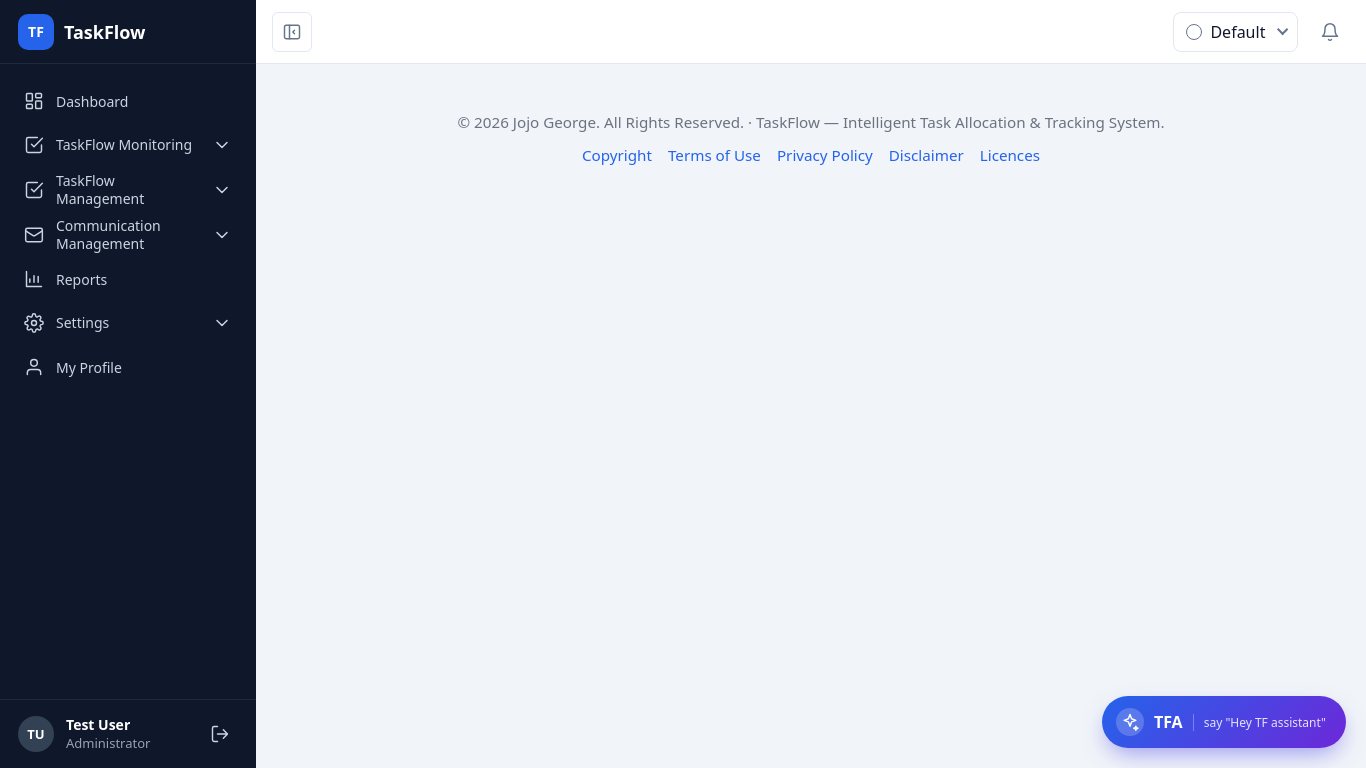
ShellComponent › collapses and expands a parent module group
Click the button with class "nav__parent" showing "Settings" at (128, 323), box [12, 302, 244, 344]
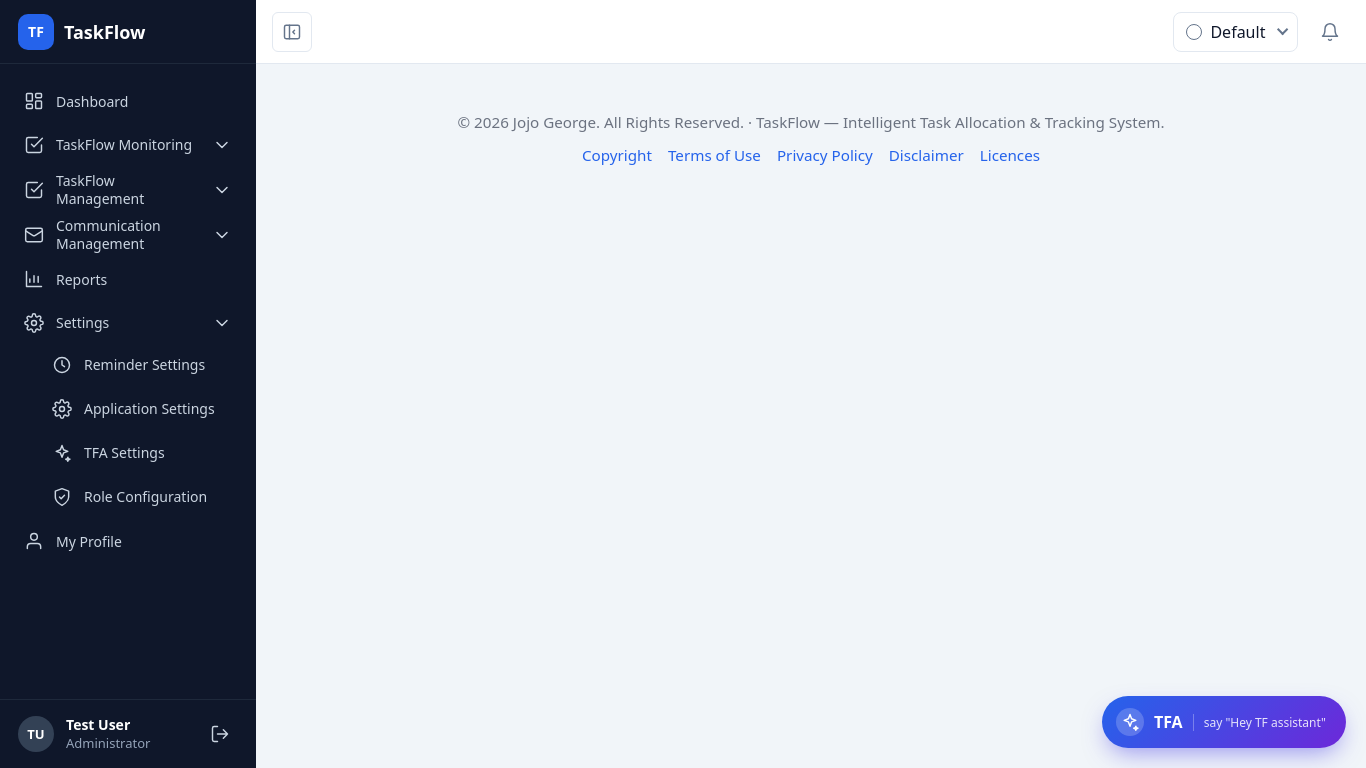
Now the element with id "nav-group-settings" is shown, box [84, 355, 215, 506]
Click the button with class "nav__parent" showing "Settings" at (128, 323), box [12, 302, 244, 344]
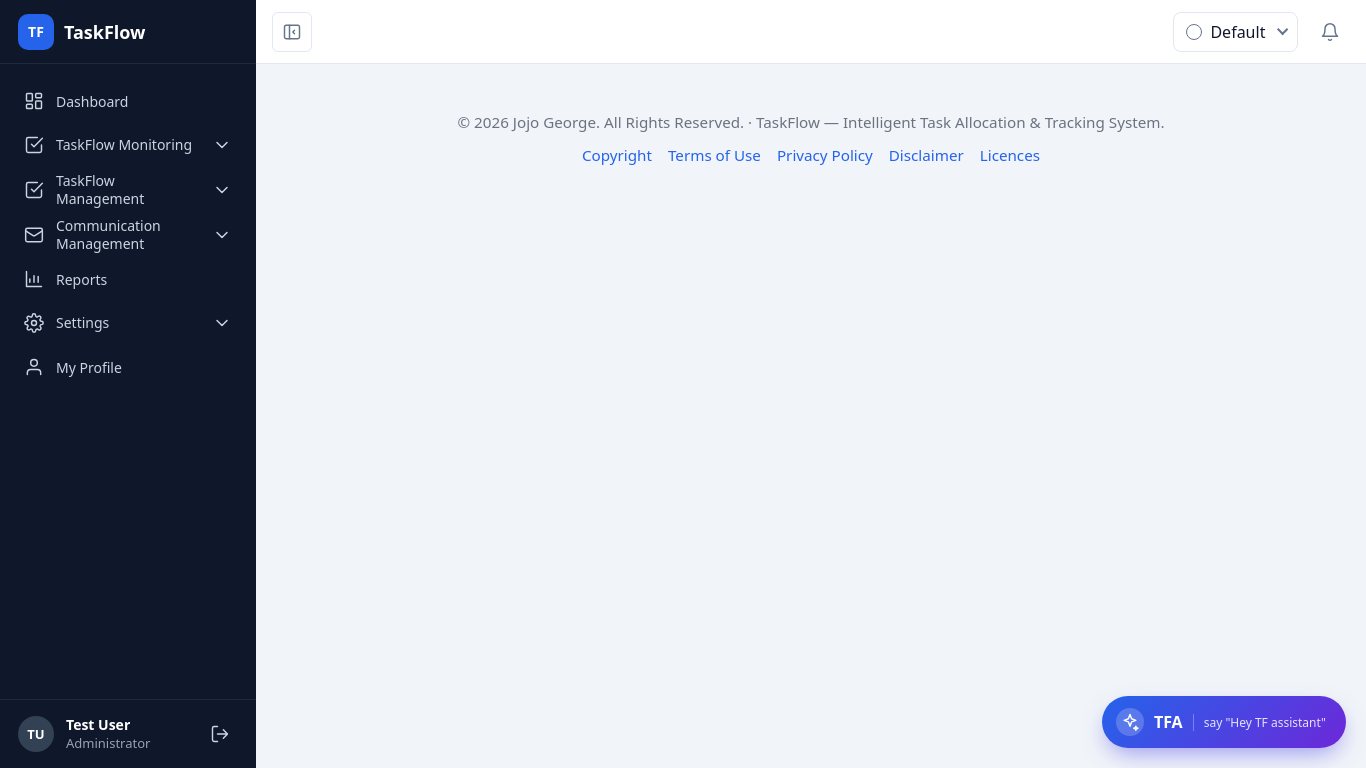
Now the element with id "nav-group-settings" is gone
